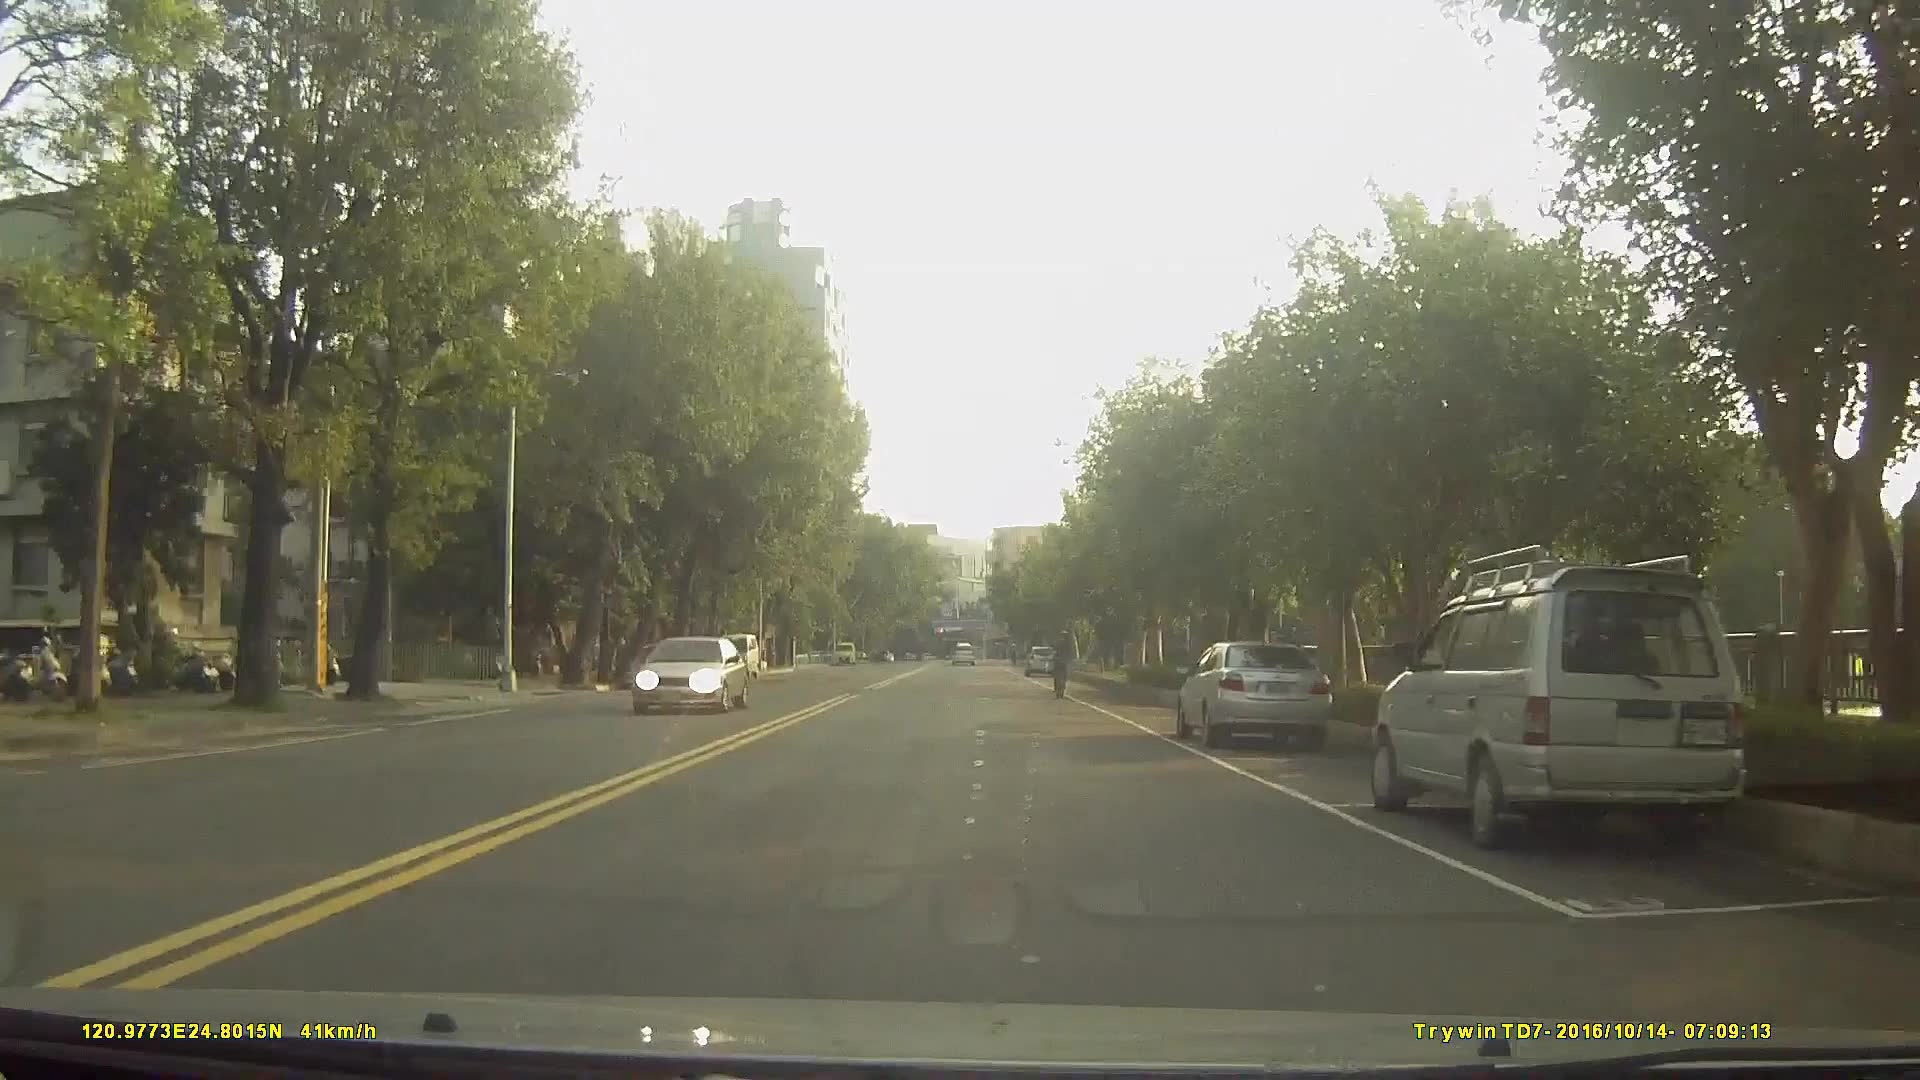rider: (1052, 621, 1076, 701)
vehicle: (1367, 559, 1753, 854), (1175, 634, 1332, 745), (628, 634, 750, 714), (627, 637, 692, 686), (710, 632, 760, 679), (1023, 640, 1059, 676), (948, 636, 976, 664)
